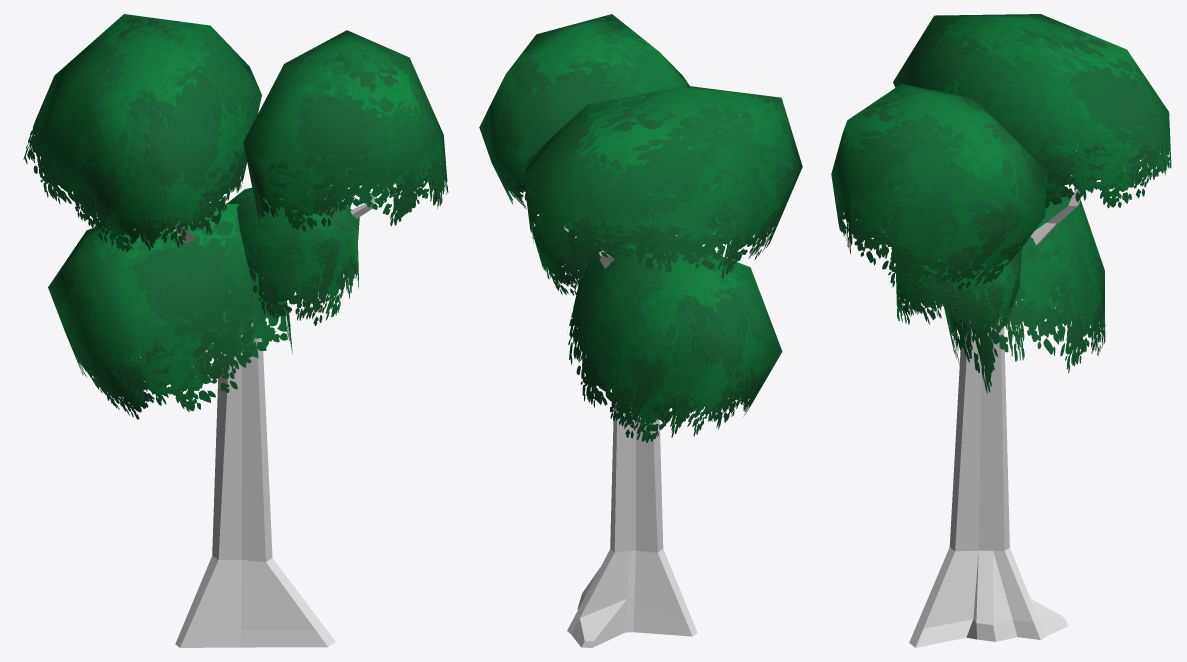
File: Pohon 1_1.fbx
3 views of the same model, side by side, from view 1: azimuth 30°, elevation 25°; view 2: azimuth 150°, elevation 25°; view 3: azimuth 270°, elevation 25° (orthographic). The views are drawn at different scales.
Parts seen in each view (by area): view 1: Cylinder; view 2: Cylinder; view 3: Cylinder.
Boxes of the visible parts, x1,y1,x2,y2 form: Cylinder: [23, 14, 448, 647]; Cylinder: [479, 14, 802, 647]; Cylinder: [831, 14, 1171, 647].
Bounding box in the file's own units: 664 × 1189 × 645.
